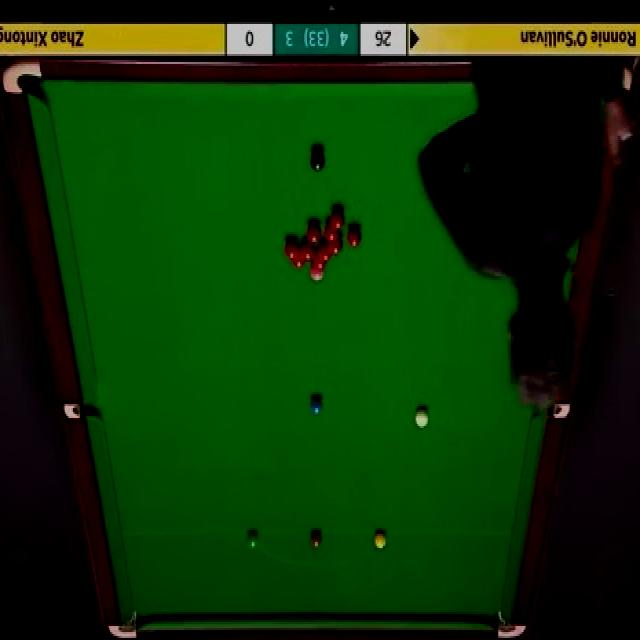pocket: (2, 57, 44, 97), (495, 606, 531, 640), (107, 608, 142, 640), (62, 405, 103, 420), (535, 405, 573, 420)
